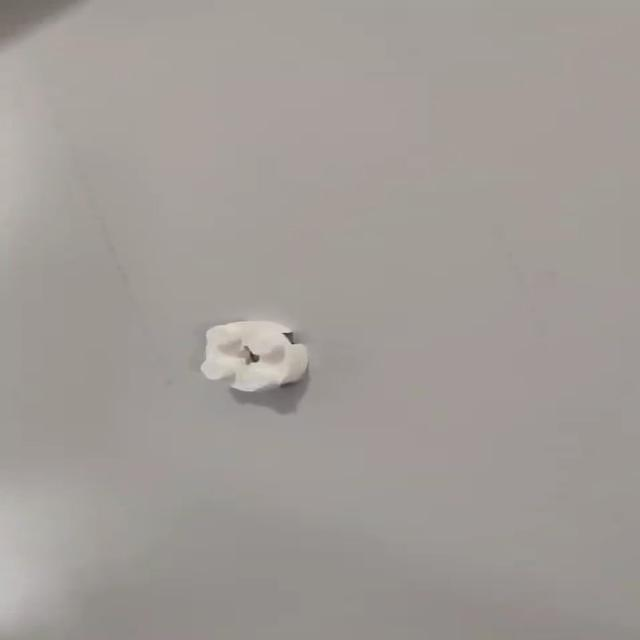S2x2x0: (198, 319, 309, 393)
